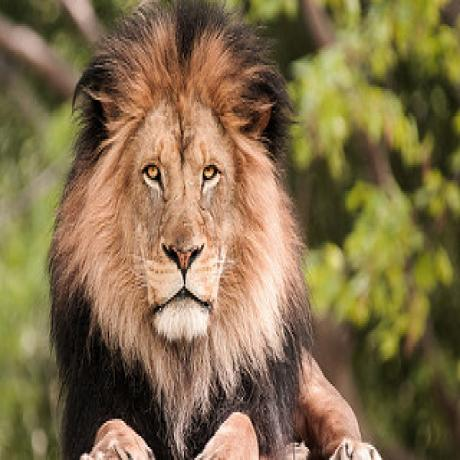Lion: (40, 0, 380, 460)
